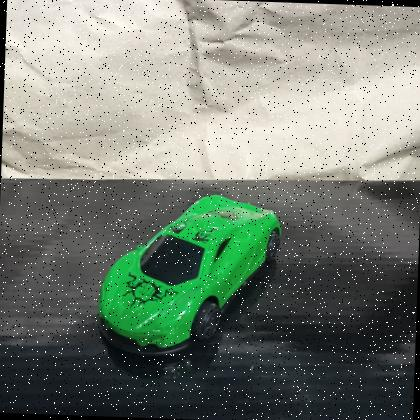Car: (90, 185, 288, 365)
